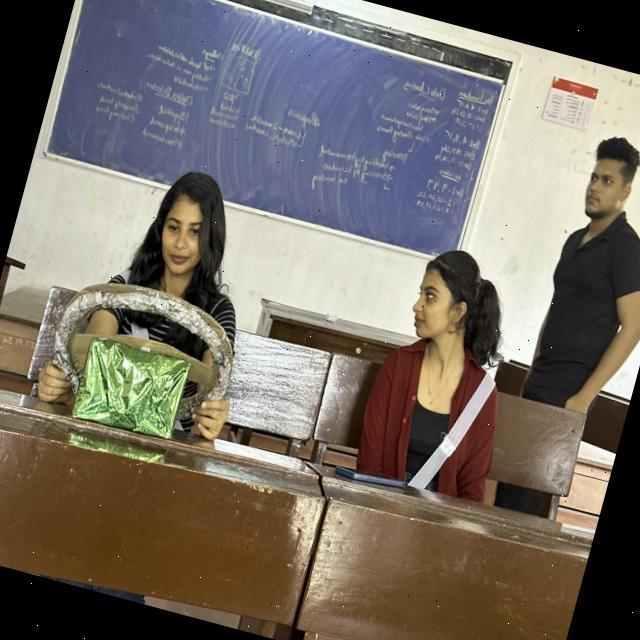seatbelt: (305, 299, 537, 540), (37, 252, 251, 446)
